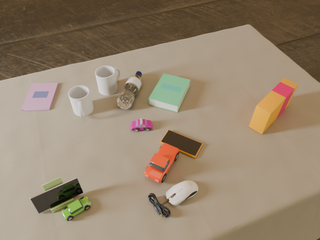book: (149, 74, 190, 112), (21, 83, 58, 110)
bottle: (117, 71, 142, 110)
box: (249, 78, 298, 134)
cup: (68, 86, 94, 117), (95, 66, 120, 95)
mouse: (166, 180, 198, 205)
phone: (30, 177, 83, 213), (160, 130, 203, 158)
toy_car: (144, 143, 179, 183), (62, 197, 91, 221), (131, 118, 153, 132)
